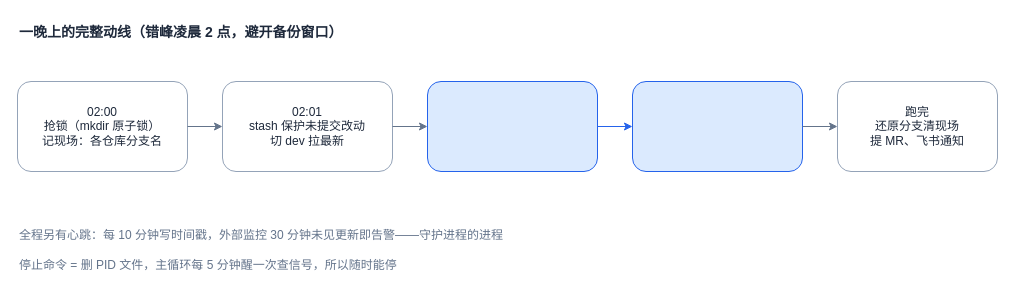
Image size: 1015x289. Some labels were removed from this diagram. Here are the shapes that lost their labels. From the top down, the centre of each, then its label:
At (x=512, y=126): "02:03 8 步全量测试 可并行，fail-fast".
At (x=717, y=126): "02:4x 挂了则 Agent 修复 + 完整回归验证".
